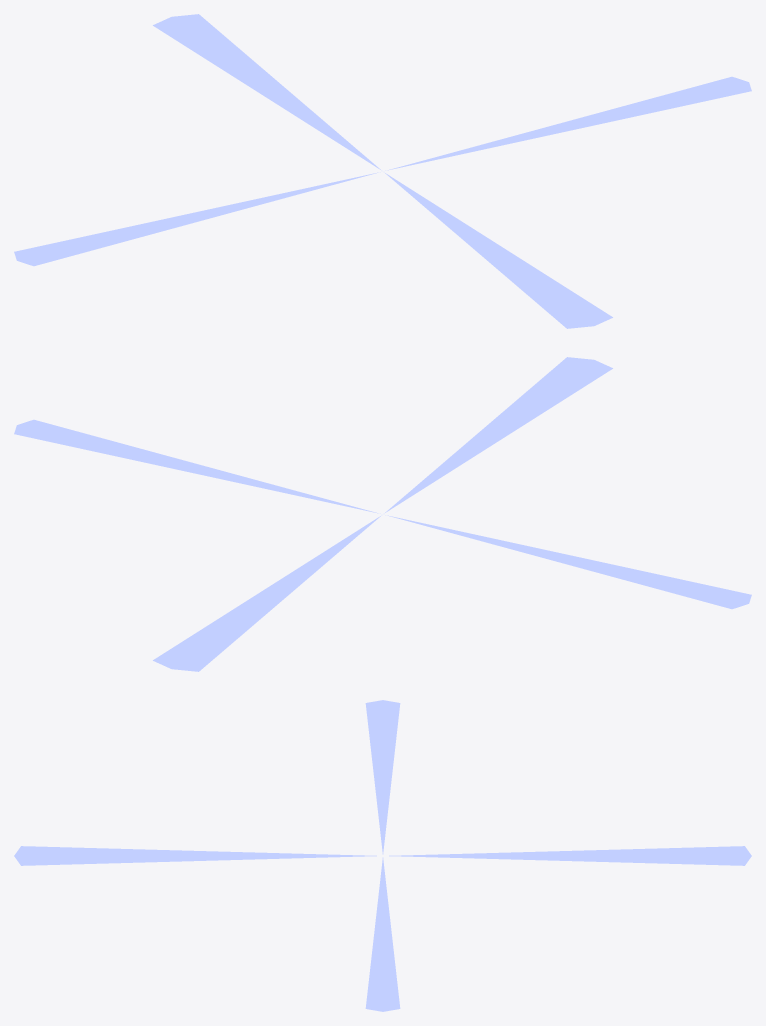
Rendered from reticle2.glb.
3 views of the same model, one above another, from view 1: azimuth 30°, elevation 25°; view 2: azimuth 150°, elevation 25°; view 3: azimuth 270°, elevation 25° (orthographic). The views are drawn at different scales.
Parts seen in each view (by area): view 1: Circle; view 2: Circle; view 3: Circle.
Part boxes in pixels (x1,y1,x2,y2): Circle: (14, 14, 751, 328); Circle: (14, 357, 751, 671); Circle: (14, 700, 751, 1011).
Bounding box in the file's own units: 0.04 × 0 × 0.04.
